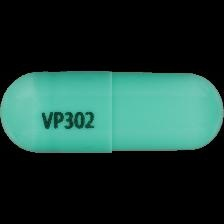76439-302: (0, 0, 224, 224)
